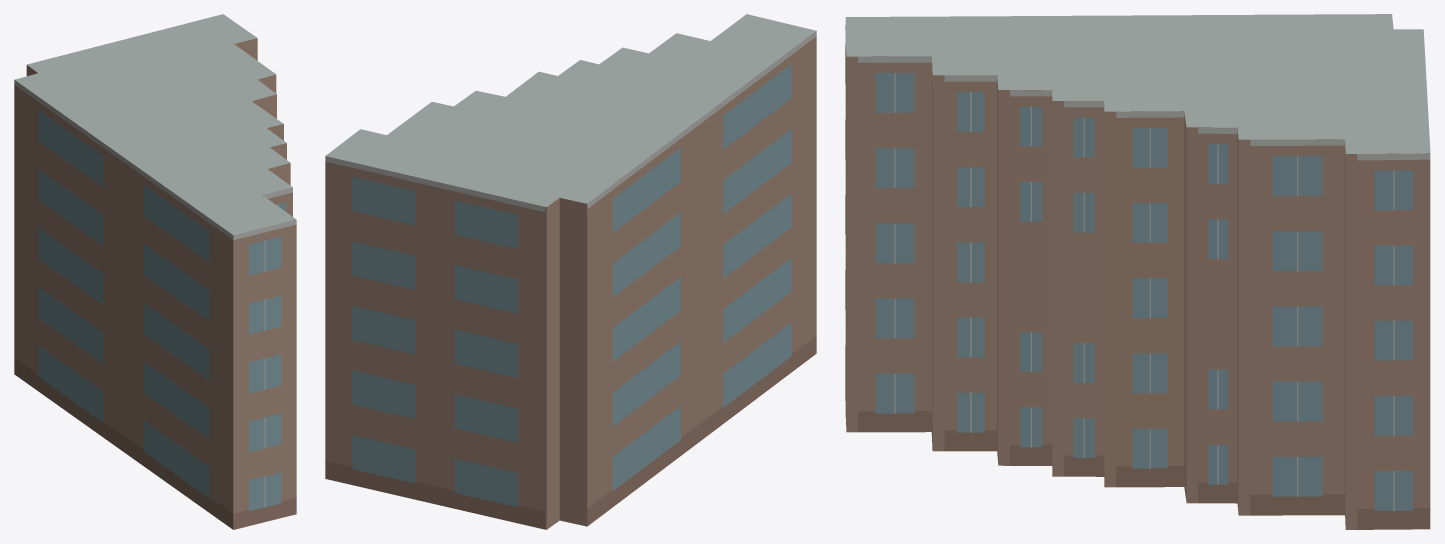
The model's file is survey-upis-32947876.glb.
3 renders of one model, left to right at view 1: azimuth 30°, elevation 25°; view 2: azimuth 150°, elevation 25°; view 3: azimuth 270°, elevation 25°, orthographic. The views are drawn at different scales.
Visible parts, largest first — view 1: survey-upis-32947876.tmp; view 2: survey-upis-32947876.tmp; view 3: survey-upis-32947876.tmp.
Boxes of the visible parts, x1,y1,x2,y2 form: survey-upis-32947876.tmp: (14,14,296,529); survey-upis-32947876.tmp: (325,14,816,529); survey-upis-32947876.tmp: (845,14,1430,529).
Size of the model in its own units: 11.6 by 14.5 by 20.47.
